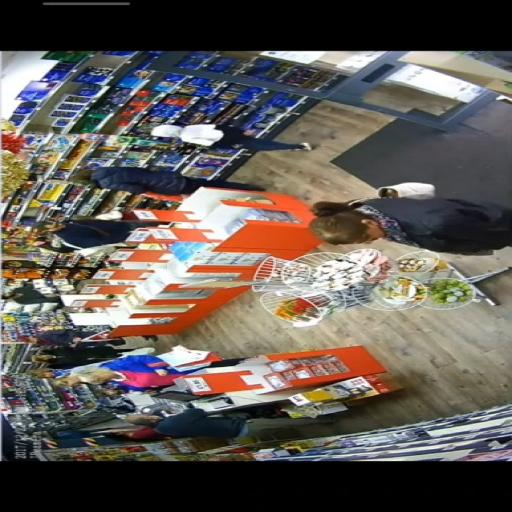workers: (52, 355, 220, 394), (30, 218, 136, 254), (3, 285, 62, 310)
